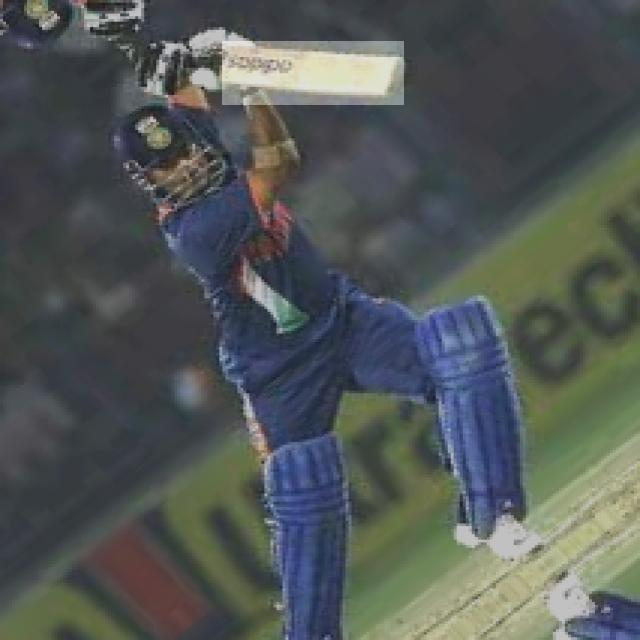bat: (218, 41, 408, 106)
toe: (369, 65, 406, 97)
